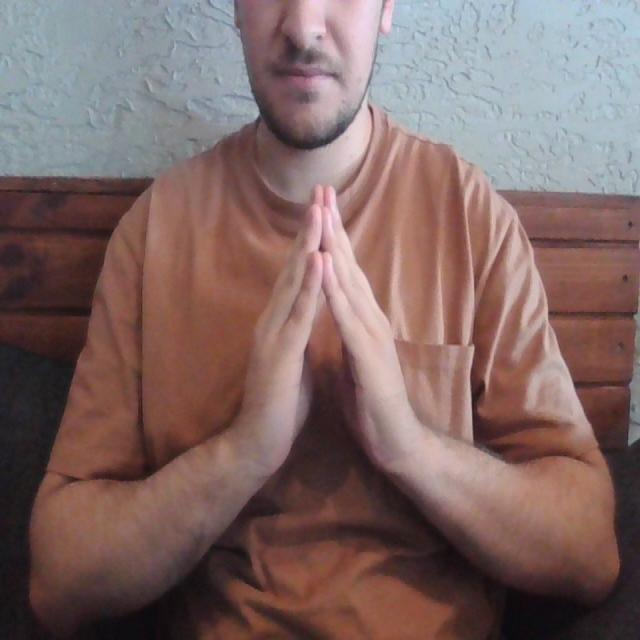Ev: (217, 181, 417, 477)
